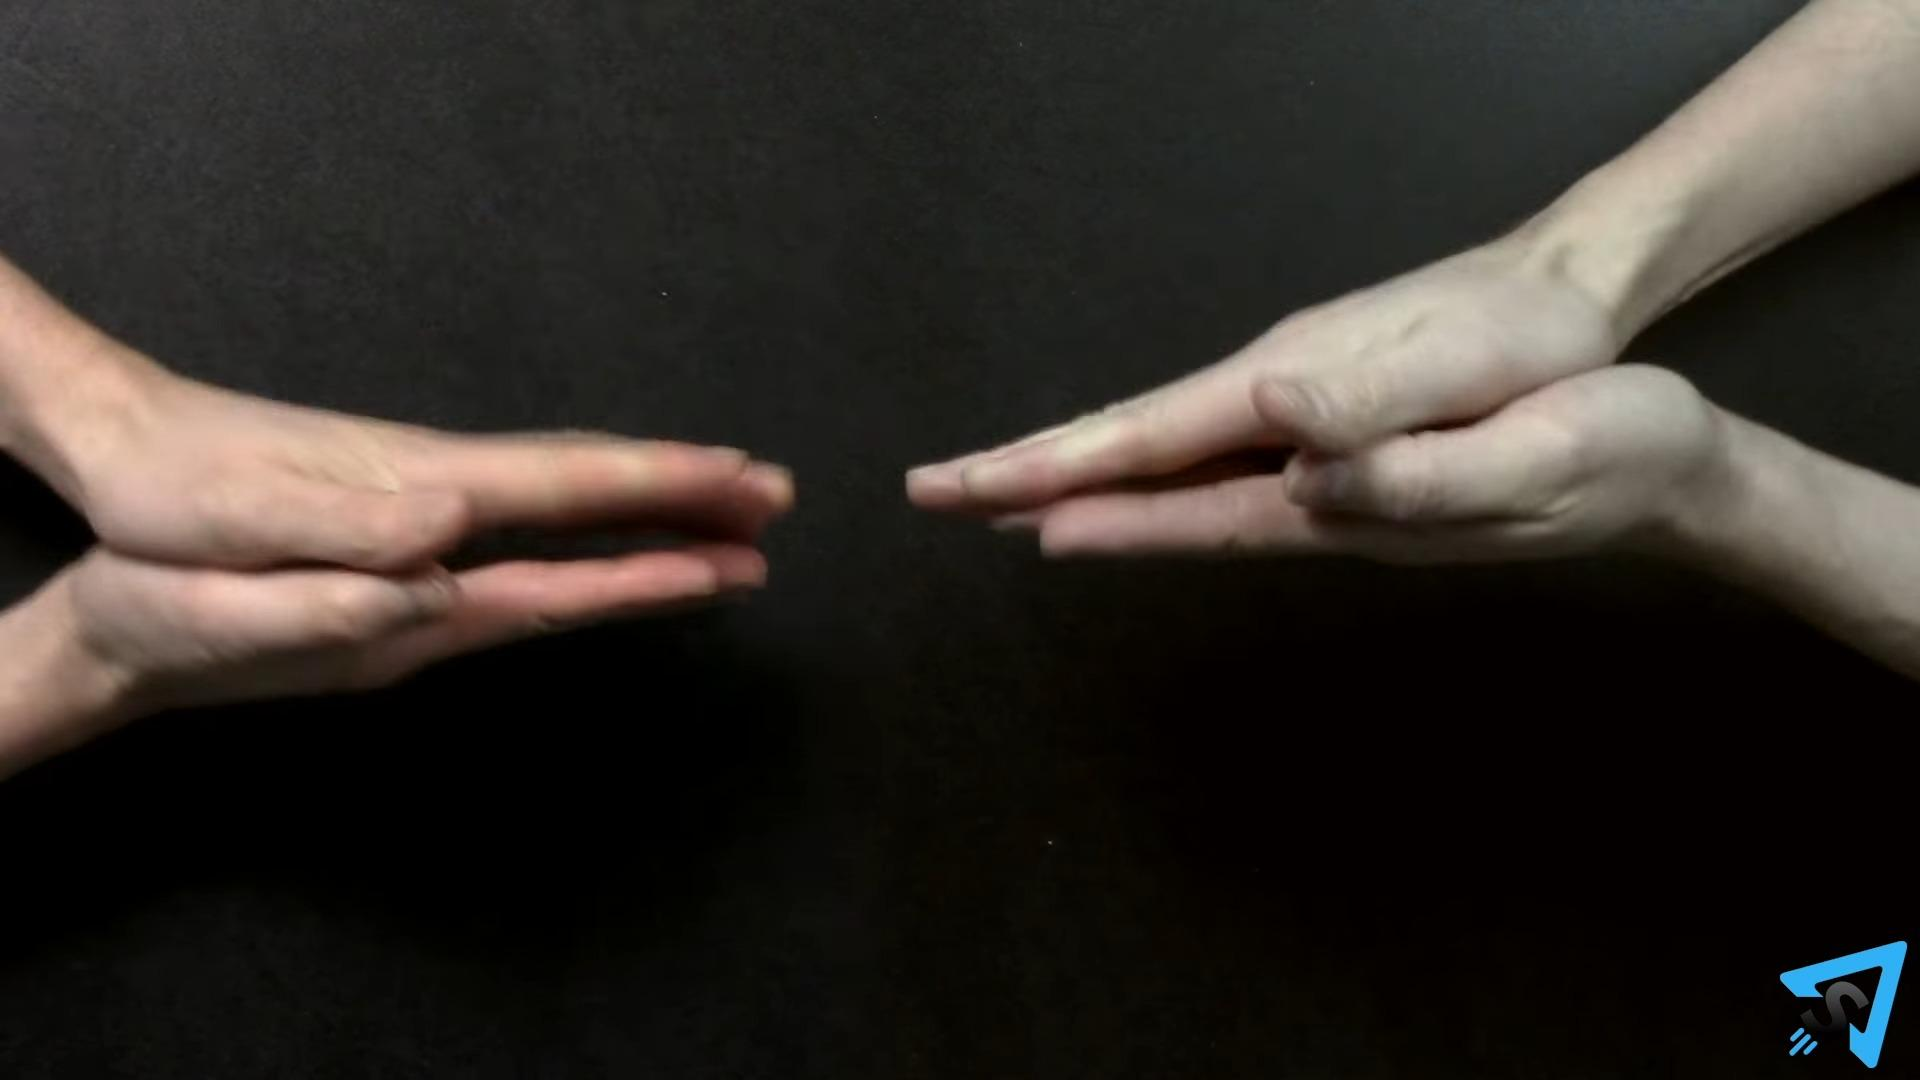Paper: (905, 248, 1618, 516), (94, 363, 796, 575)
